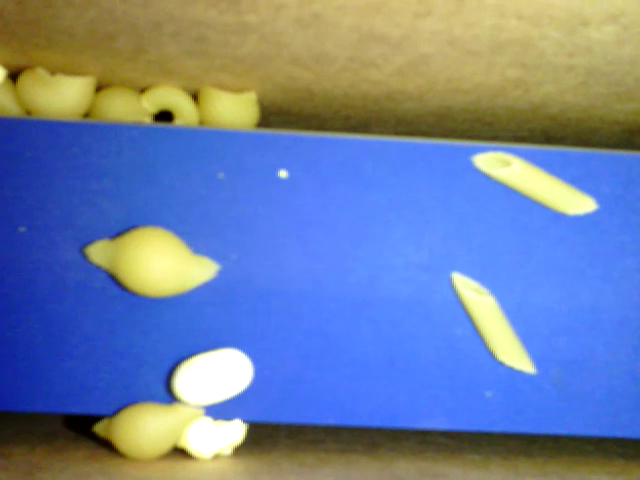elbow: (450, 268, 537, 375), (468, 149, 602, 217), (141, 83, 199, 125)
shell: (84, 224, 220, 297), (92, 402, 208, 465), (16, 65, 97, 120), (194, 83, 258, 134), (86, 84, 155, 124)
